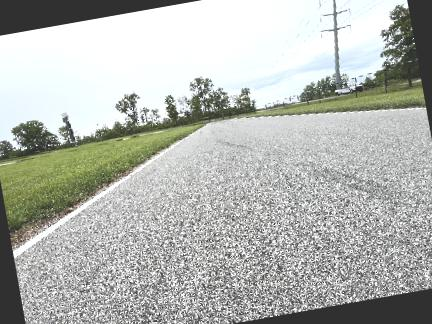Grass: (0, 125, 202, 247), (245, 88, 425, 117)
Lane: (14, 109, 431, 323)
